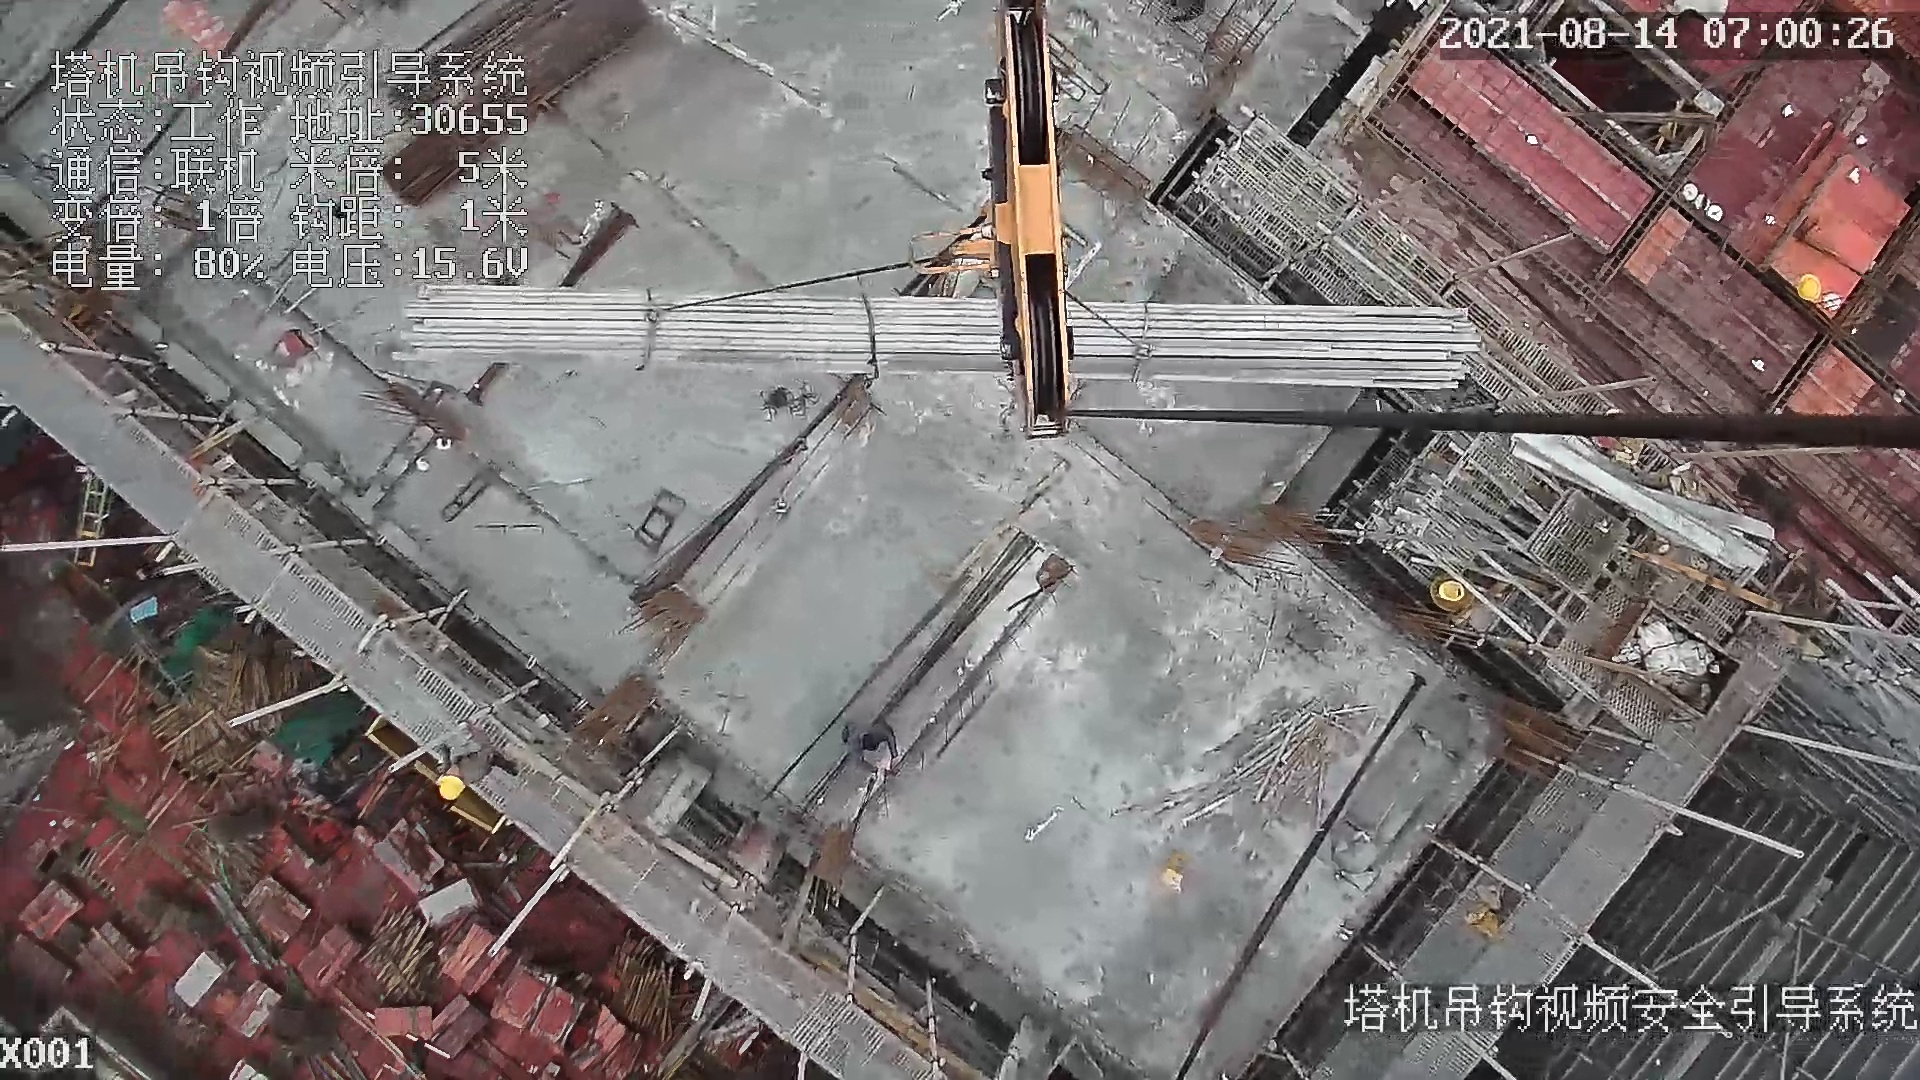helmet: (1796, 274, 1821, 301), (1437, 581, 1465, 601)
hook: (913, 1, 1085, 447)
person: (432, 723, 515, 805), (842, 714, 901, 781)
rebar: (397, 281, 1481, 397)
